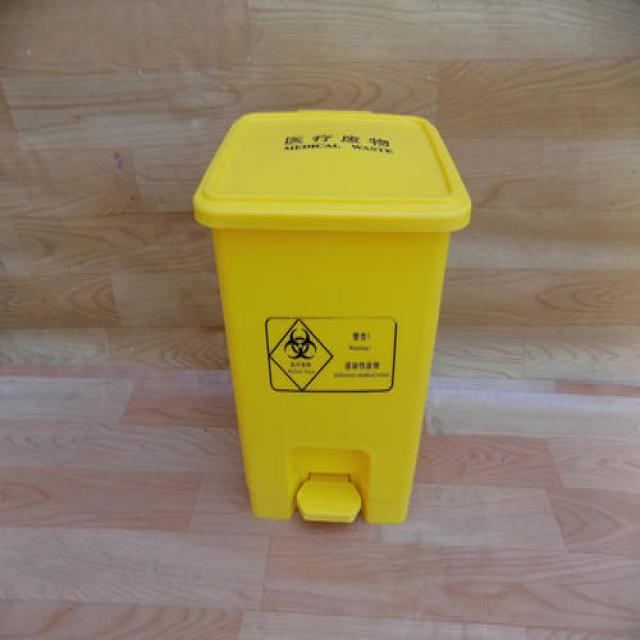garbage_bin: (192, 106, 470, 522)
